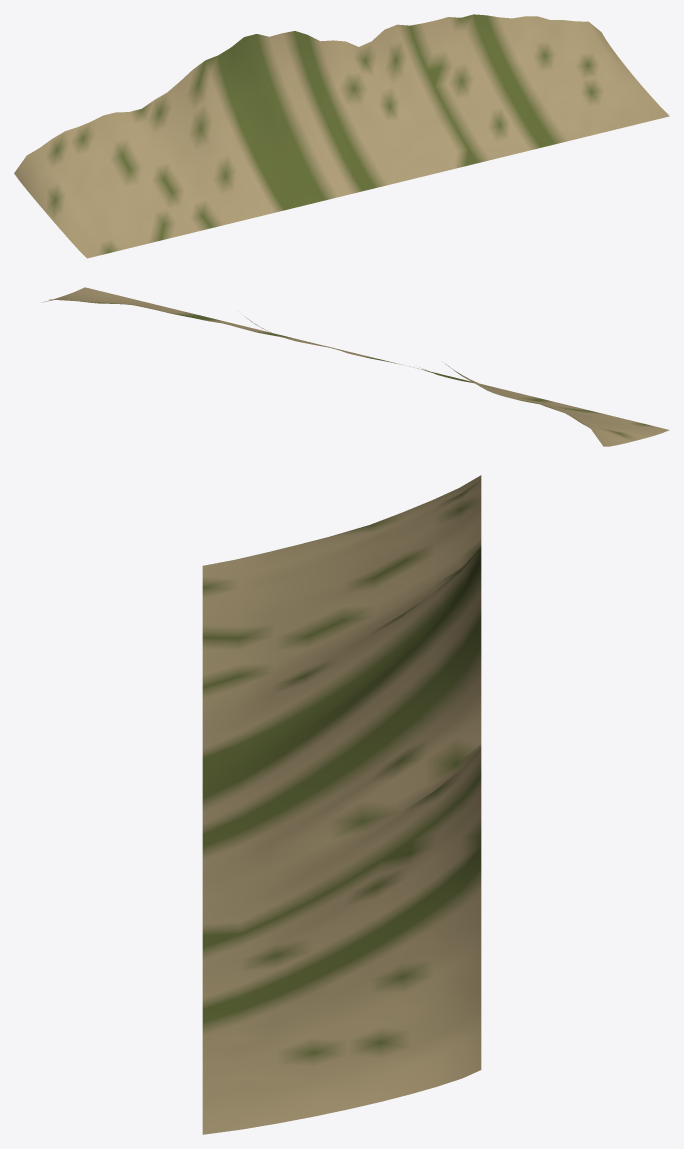
The model's file is foothill_ridge.glb.
3 views of the same model, one above another, from view 1: azimuth 30°, elevation 25°; view 2: azimuth 150°, elevation 25°; view 3: azimuth 270°, elevation 25° (orthographic). The views are drawn at different scales.
Visible parts, largest first — view 1: foothill_ridge_mesh; view 2: foothill_ridge_mesh; view 3: foothill_ridge_mesh.
Part boxes in pixels (box(x1,y1,x2,y2)): foothill_ridge_mesh: box(14, 14, 669, 258); foothill_ridge_mesh: box(43, 287, 669, 446); foothill_ridge_mesh: box(202, 475, 481, 1134).
Size of the model in its own units: 78 by 14.65 by 16.
